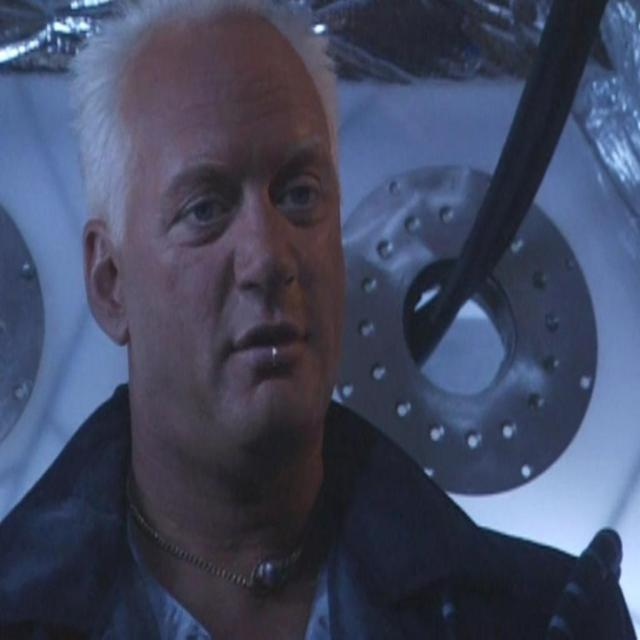Face: (119, 28, 351, 457)
